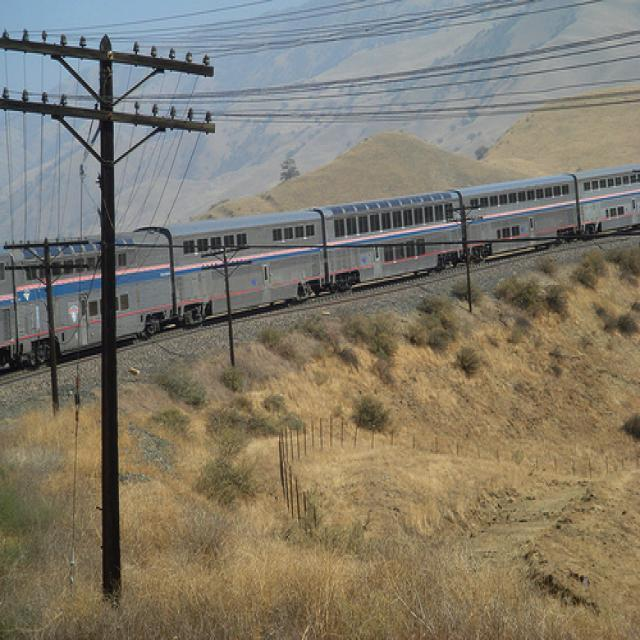crossarm: (0, 34, 216, 79), (0, 96, 218, 131), (9, 239, 84, 259), (12, 261, 91, 278), (3, 256, 9, 270)
pole: (92, 36, 122, 609), (37, 237, 59, 413)
wire: (132, 37, 639, 103), (186, 3, 601, 63), (166, 87, 640, 119), (21, 119, 30, 236), (56, 114, 63, 239)
